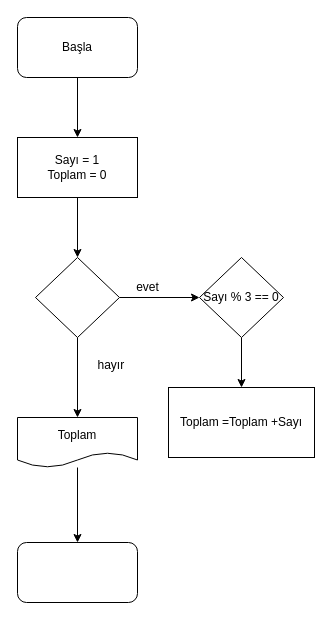
Image size: 332x620. Some labels were removed from this diagram. The shapes that lost their labels are listed below. From the top down, each one's centre as x and y in pixels, then its label:
At [77,297]: "Sayı<1000".
At [77,572]: "Bitir".
